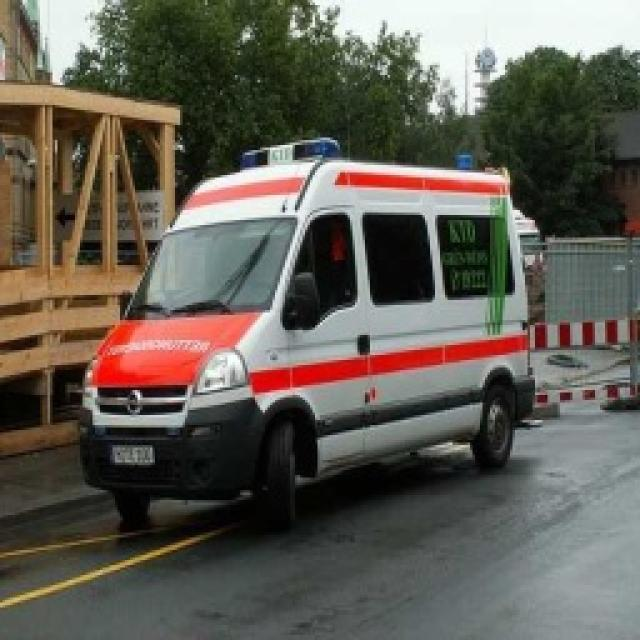ambulance: (80, 140, 532, 522)
